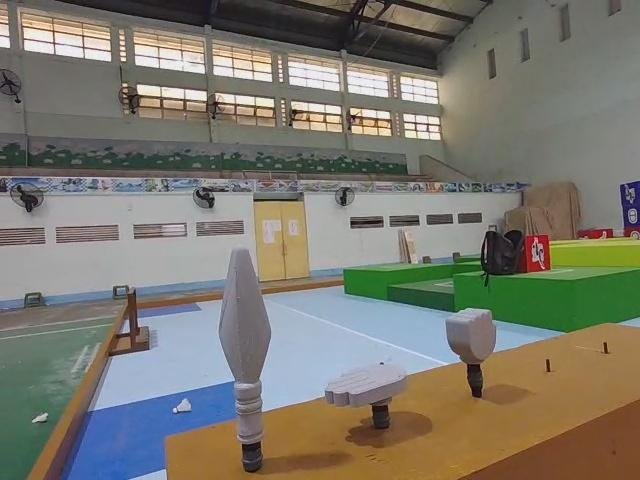Fist: (444, 307, 498, 394)
Hand: (323, 360, 408, 433)
Sph: (219, 246, 276, 479)
